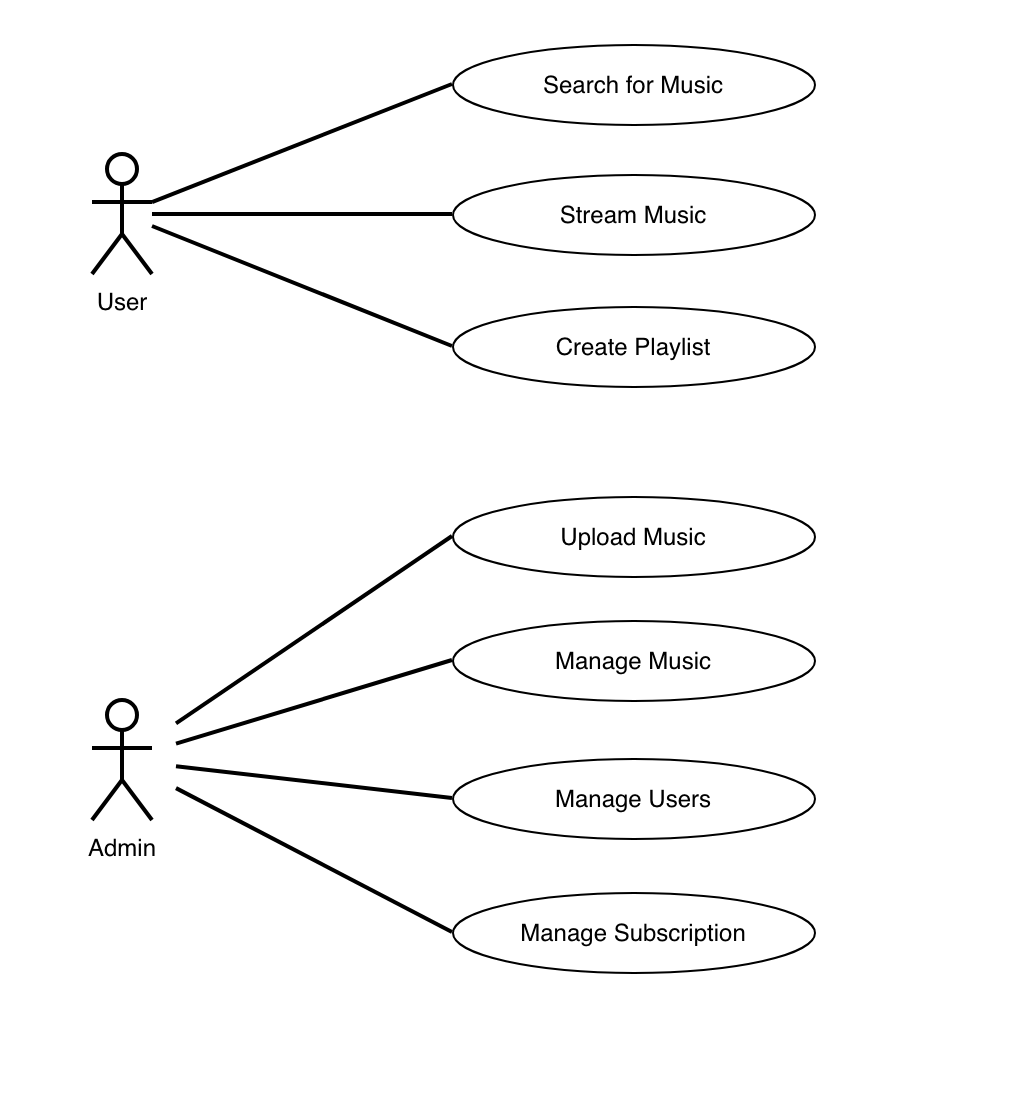actor: (81, 693, 158, 826), (89, 147, 156, 281)
association: (173, 534, 448, 725), (173, 783, 450, 934), (149, 79, 458, 203), (155, 223, 450, 348), (178, 658, 451, 746), (174, 760, 448, 806), (152, 202, 452, 227)
text: (510, 914, 756, 955), (548, 515, 727, 563), (543, 637, 719, 684), (547, 327, 727, 371), (539, 64, 728, 102), (551, 777, 720, 818), (553, 189, 712, 232), (81, 831, 181, 871), (92, 289, 161, 319)
use_case: (446, 889, 819, 977), (450, 303, 818, 392), (453, 172, 819, 260), (452, 494, 817, 582), (449, 755, 818, 842), (449, 616, 817, 703), (452, 43, 818, 128)
